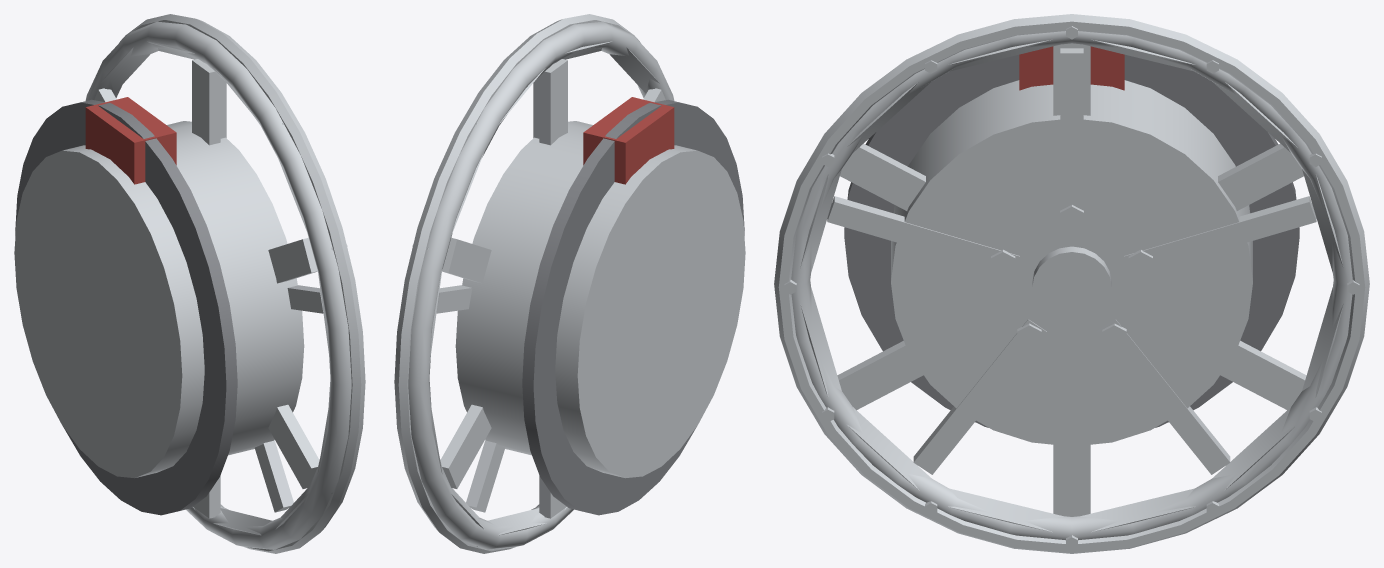
The model's file is wh-bead.glb.
3 views of the same model, side by side, from view 1: azimuth 30°, elevation 25°; view 2: azimuth 150°, elevation 25°; view 3: azimuth 270°, elevation 25° (orthographic). The views are drawn at different scales.
Visible parts, largest first — view 1: Chrome.001, Rotor, Chrome.002, Chrome, Caliper, ChromeLOD, Chrome.005, Chrome.007, Chrome.006, ChromeLOD.004, ChromeLOD.003, Chrome.008; view 2: Chrome.001, Rotor, Chrome.002, Chrome, Caliper, ChromeLOD, Chrome.005, Chrome.009, Chrome.010, ChromeLOD.005, ChromeLOD.006, Chrome.008; view 3: Chrome.001, Chrome, Chrome.002, Rotor, ChromeLOD, Chrome.004, ChromeLOD.003, ChromeLOD.006, ChromeLOD.004, ChromeLOD.005, ChromeLOD.002, Chrome.007 (+6 smaller).
Boxes of the visible parts, x1=… form: Chrome.001: x1=14, y1=121, x2=304, y2=478; Rotor: x1=15, y1=99, x2=237, y2=515; Chrome.002: x1=85, y1=21, x2=351, y2=549; Chrome: x1=119, y1=14, x2=365, y2=553; Caliper: x1=85, y1=97, x2=176, y2=184; ChromeLOD: x1=100, y1=24, x2=332, y2=546; Chrome.005: x1=192, y1=59, x2=220, y2=145; Chrome.007: x1=268, y1=404, x2=319, y2=488; Chrome.006: x1=268, y1=238, x2=317, y2=283; ChromeLOD.004: x1=254, y1=440, x2=293, y2=512; ChromeLOD.003: x1=287, y1=285, x2=323, y2=313; Chrome.008: x1=193, y1=475, x2=220, y2=518; Chrome.001: x1=455, y1=121, x2=745, y2=478; Rotor: x1=522, y1=99, x2=744, y2=515; Chrome.002: x1=408, y1=21, x2=674, y2=549; Chrome: x1=394, y1=14, x2=640, y2=553; Caliper: x1=583, y1=97, x2=674, y2=184; ChromeLOD: x1=427, y1=24, x2=659, y2=546; Chrome.005: x1=539, y1=59, x2=567, y2=145; Chrome.009: x1=440, y1=404, x2=491, y2=488; Chrome.010: x1=442, y1=238, x2=491, y2=283; ChromeLOD.005: x1=466, y1=440, x2=505, y2=512; ChromeLOD.006: x1=436, y1=285, x2=472, y2=313; Chrome.008: x1=539, y1=475, x2=566, y2=518; Chrome.001: x1=891, y1=80, x2=1252, y2=446; Chrome: x1=774, y1=14, x2=1369, y2=553; Chrome.002: x1=791, y1=31, x2=1352, y2=540; Rotor: x1=844, y1=54, x2=1299, y2=427; ChromeLOD: x1=800, y1=39, x2=1343, y2=532; Chrome.004: x1=1032, y1=246, x2=1111, y2=323; ChromeLOD.003: x1=827, y1=196, x2=1019, y2=276; ChromeLOD.006: x1=1124, y1=196, x2=1316, y2=276; ChromeLOD.004: x1=913, y1=319, x2=1046, y2=474; ChromeLOD.005: x1=1097, y1=319, x2=1230, y2=474; ChromeLOD.002: x1=1060, y1=48, x2=1083, y2=229; Chrome.007: x1=837, y1=340, x2=923, y2=410.
Size of the model in its own units: 0.142 by 0.51 by 0.51.
